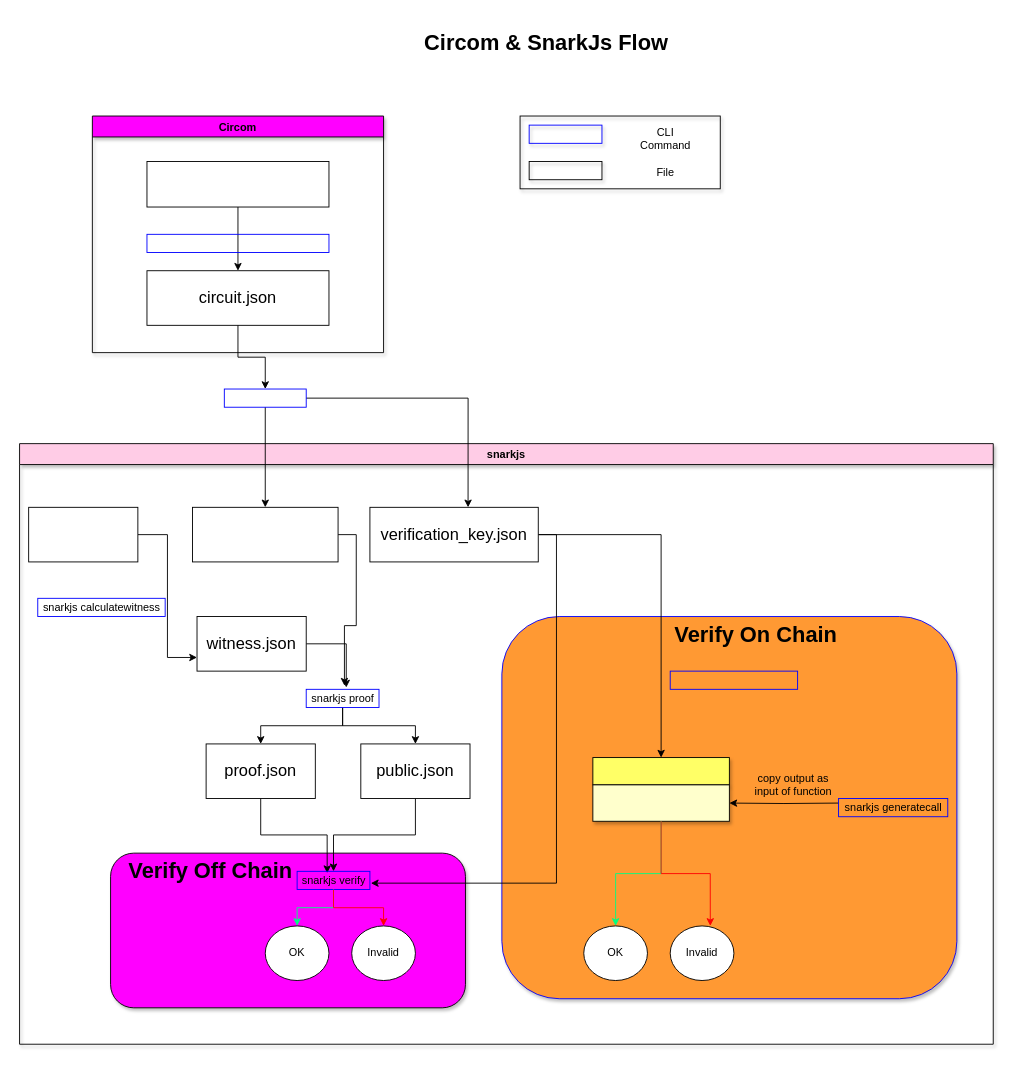
This 1015x1067 diagram has some shape labels left out. The centre of each missing label's shape, as x and y in pixels:
circom circuit.circom -o circuit.json: the point at 237,243
circuit.circom: the point at 237,184
input.json: the point at 83,534
prooving_key.json: the point at 265,534
snarkjs generateverifier: the point at 733,679
snarkjs setup: the point at 264,397
verifier.sol: the point at 661,772
verifyProof(): the point at 661,804
